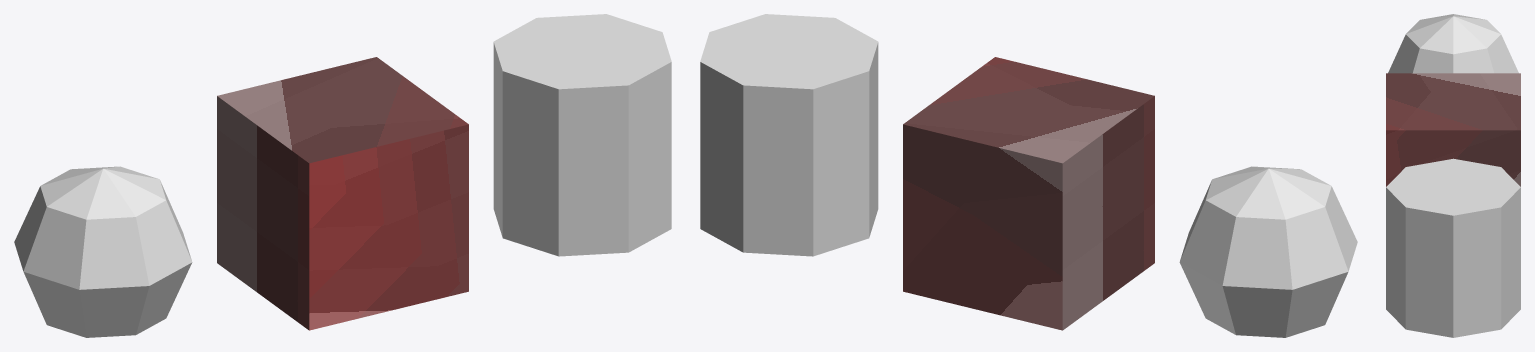
Rendered from uv_workflow.out_atlas_rt.glb.
3 renders of one model, left to right at view 1: azimuth 30°, elevation 25°; view 2: azimuth 150°, elevation 25°; view 3: azimuth 270°, elevation 25°, orthographic. The views are drawn at different scales.
Visible parts, largest first — view 1: Cube, Cylinder, Sphere; view 2: Cube, Cylinder, Sphere; view 3: Cylinder, Cube, Sphere.
Boxes of the visible parts, x1,y1,x2,y2 form: Cube: (217, 57, 468, 330); Cylinder: (493, 14, 671, 256); Sphere: (14, 166, 192, 337); Cube: (903, 57, 1154, 330); Cylinder: (700, 14, 878, 256); Sphere: (1179, 166, 1357, 337); Cylinder: (1386, 158, 1520, 337); Cube: (1386, 73, 1520, 186); Sphere: (1388, 14, 1518, 73).
Size of the model in its own units: 8 by 2 by 2.
1 material, 1 textured.
